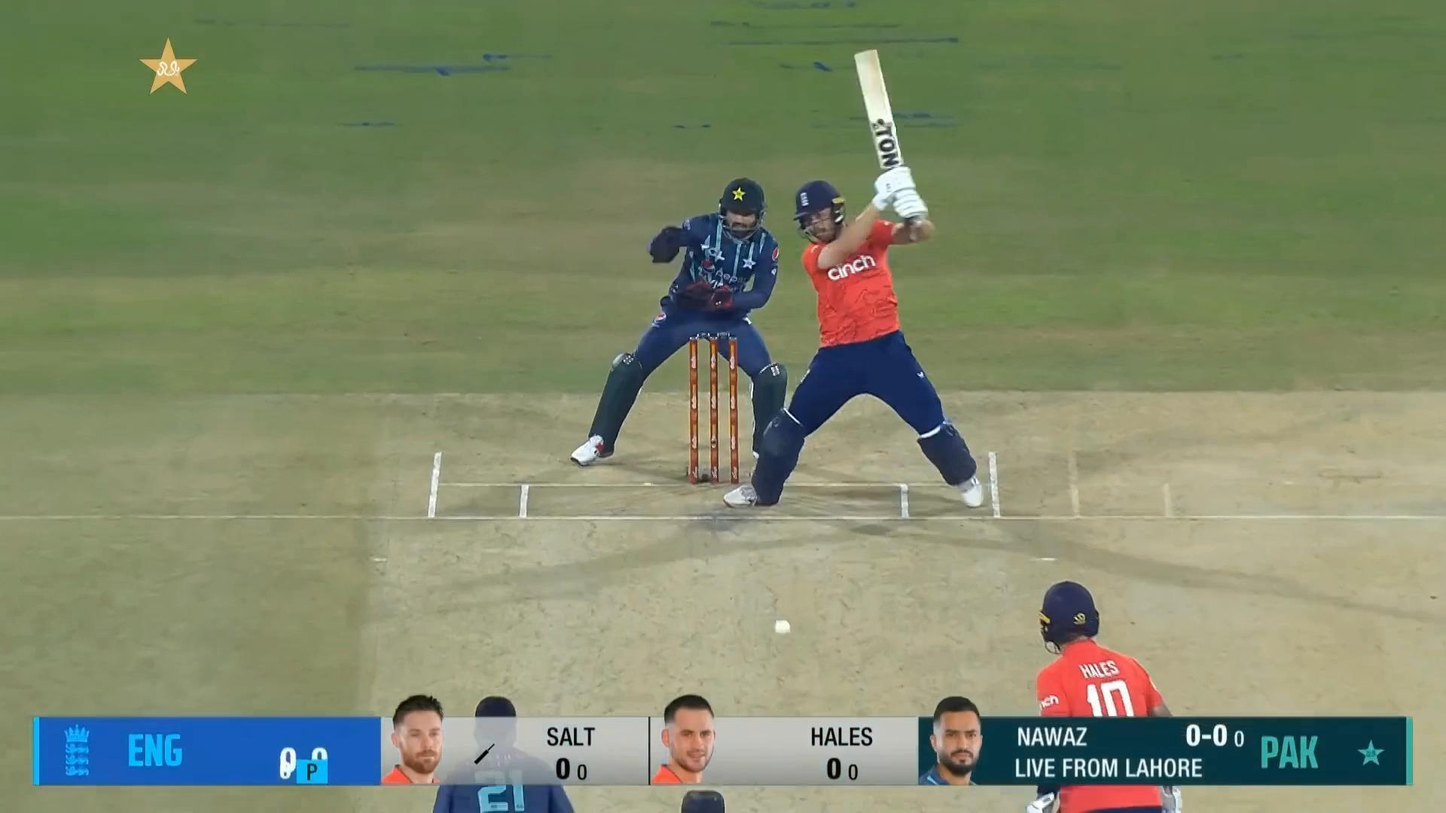BM 1: (723, 48, 984, 510)
BO: (433, 695, 575, 813)
